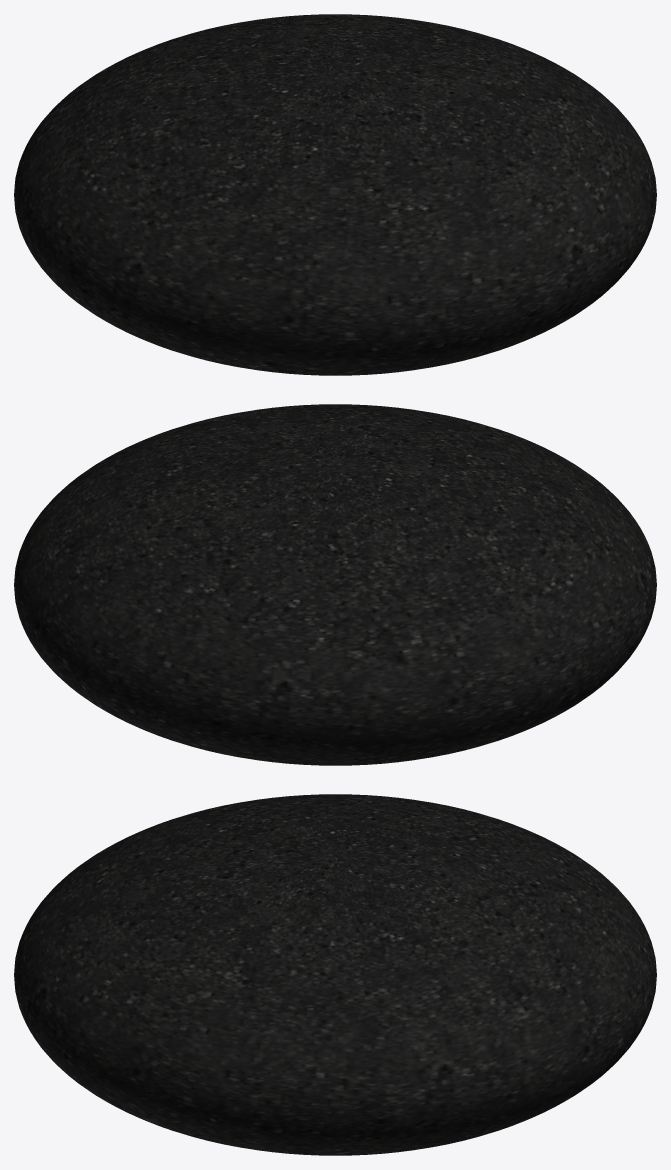
The model's file is go-stone-black.glb.
3 renders of one model, top to bottom at view 1: azimuth 30°, elevation 25°; view 2: azimuth 150°, elevation 25°; view 3: azimuth 270°, elevation 25°, orthographic.
Visible parts, largest first — view 1: go-stone-black; view 2: go-stone-black; view 3: go-stone-black.
Part boxes in pixels (x1,y1,x2,y2): go-stone-black: (14,14,656,375); go-stone-black: (14,404,656,765); go-stone-black: (14,794,656,1155).
Bounding box in the file's own units: 0.022 × 0.009 × 0.022.
1 material, 1 textured.
